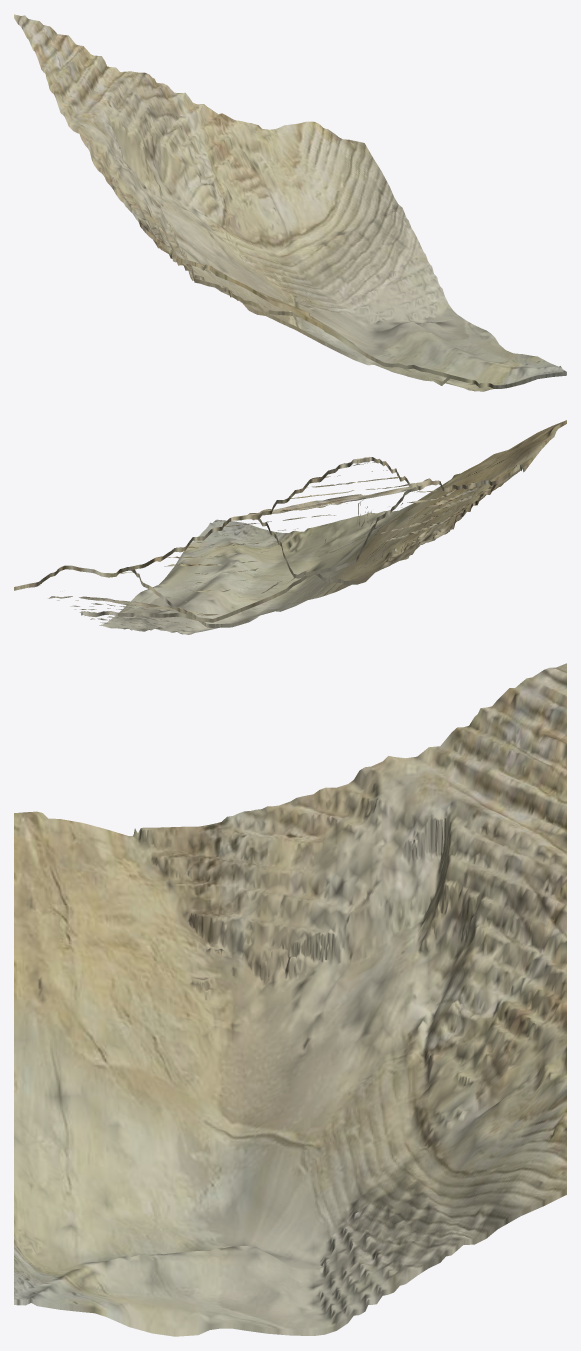
3 renders of one model, top to bottom at view 1: azimuth 30°, elevation 25°; view 2: azimuth 150°, elevation 25°; view 3: azimuth 270°, elevation 25°, orthographic. The views are drawn at different scales.
Visible parts, largest first — view 1: l1-0-1; view 2: l1-0-1; view 3: l1-0-1.
Boxes of the visible parts, x1,y1,x2,y2 form: l1-0-1: (14, 14, 566, 391); l1-0-1: (14, 420, 566, 634); l1-0-1: (14, 663, 566, 1336).
Bounding box in the file's own units: 768 × 674 × 768.
Materials: 1 (1 with a texture image).
